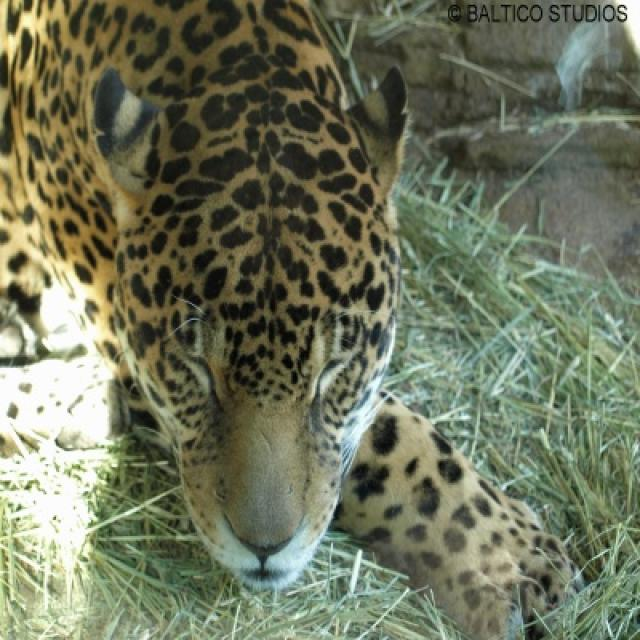Jaguar: (0, 0, 570, 638)
